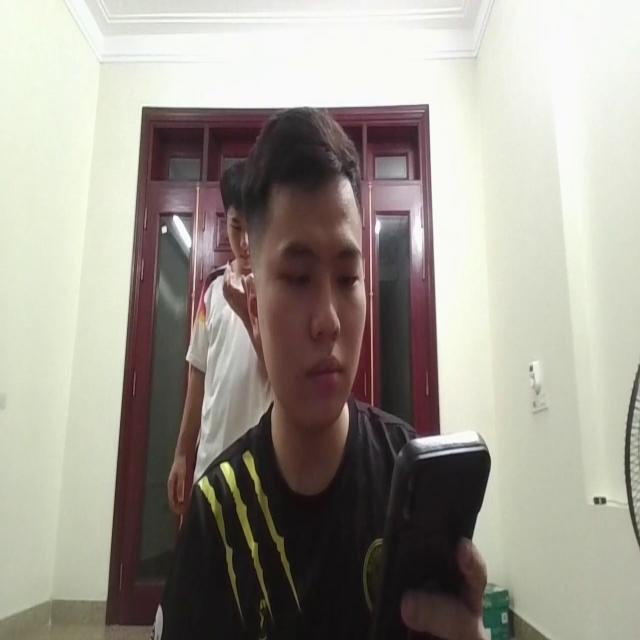extra_person: (168, 170, 254, 476)
phone: (376, 429, 488, 610)
student: (137, 91, 471, 628)
